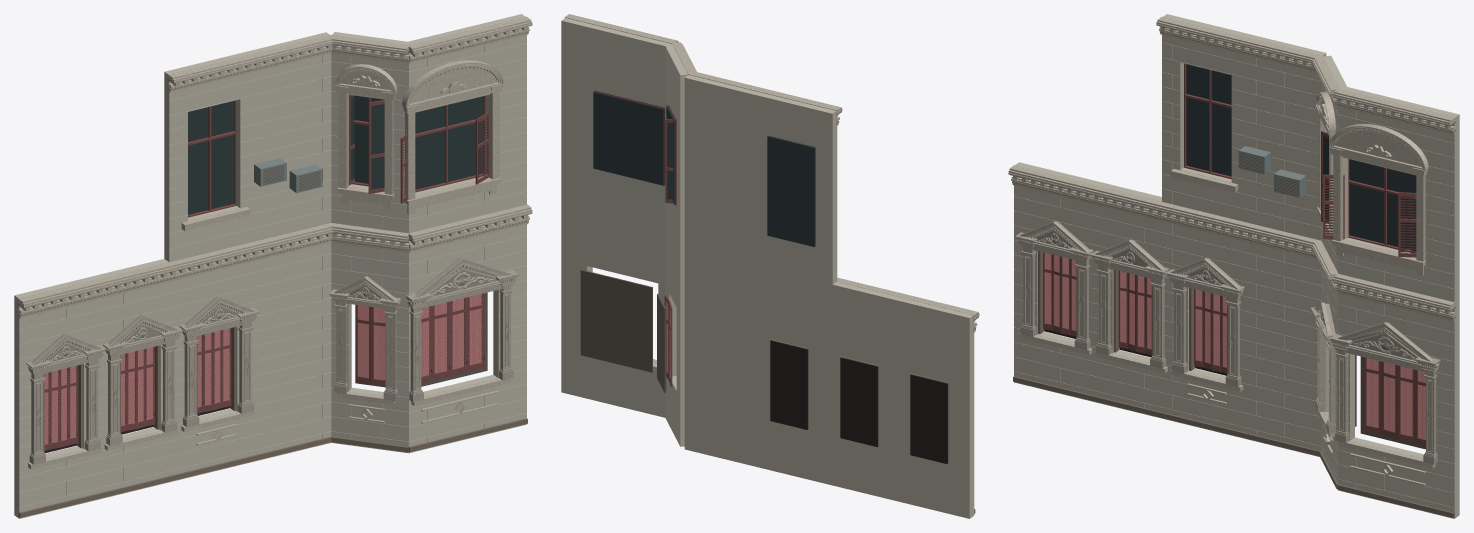
The model's file is jingan-huaya-hall-jinde-school-window-pediments-raw.glb.
3 renders of one model, left to right at view 1: azimuth 30°, elevation 25°; view 2: azimuth 150°, elevation 25°; view 3: azimuth 330°, elevation 25°, orthographic. The views are drawn at different scales.
Visible parts, largest first — view 1: 花雅堂三联百叶窗、卷草山花与转角窗墙; view 2: 花雅堂三联百叶窗、卷草山花与转角窗墙; view 3: 花雅堂三联百叶窗、卷草山花与转角窗墙.
Part boxes in pixels (x1,y1,x2,y2): 花雅堂三联百叶窗、卷草山花与转角窗墙: (14,14,532,518); 花雅堂三联百叶窗、卷草山花与转角窗墙: (561,14,979,518); 花雅堂三联百叶窗、卷草山花与转角窗墙: (1008,14,1459,518).
Size of the model in its own units: 14.98 by 12.2 by 2.27.
16 materials, 7 textured.
